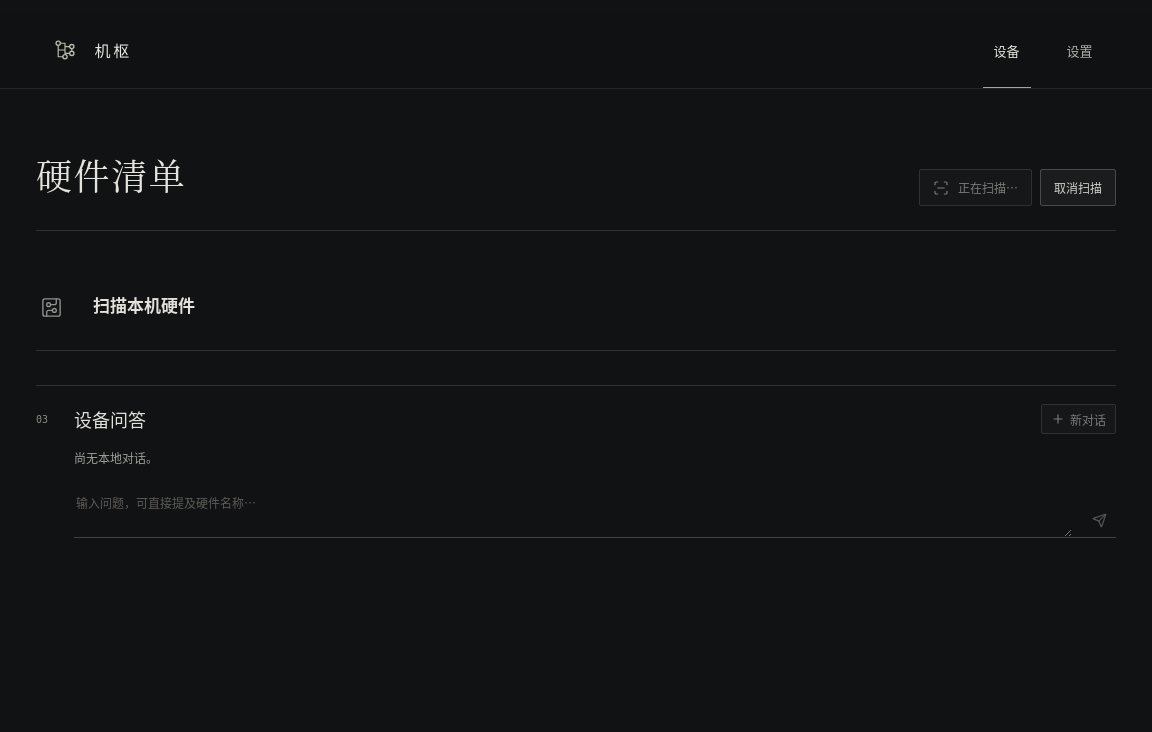
Scenario: CoreScope application shell › lets the user cancel an in-progress hardware scan
This screenshot has width=1152, height=732.
Check: the button "正在扫描…" is shown, box [919,169,1032,206]
Click the button "取消扫描" at [1078, 188], box [1040,169,1116,206]
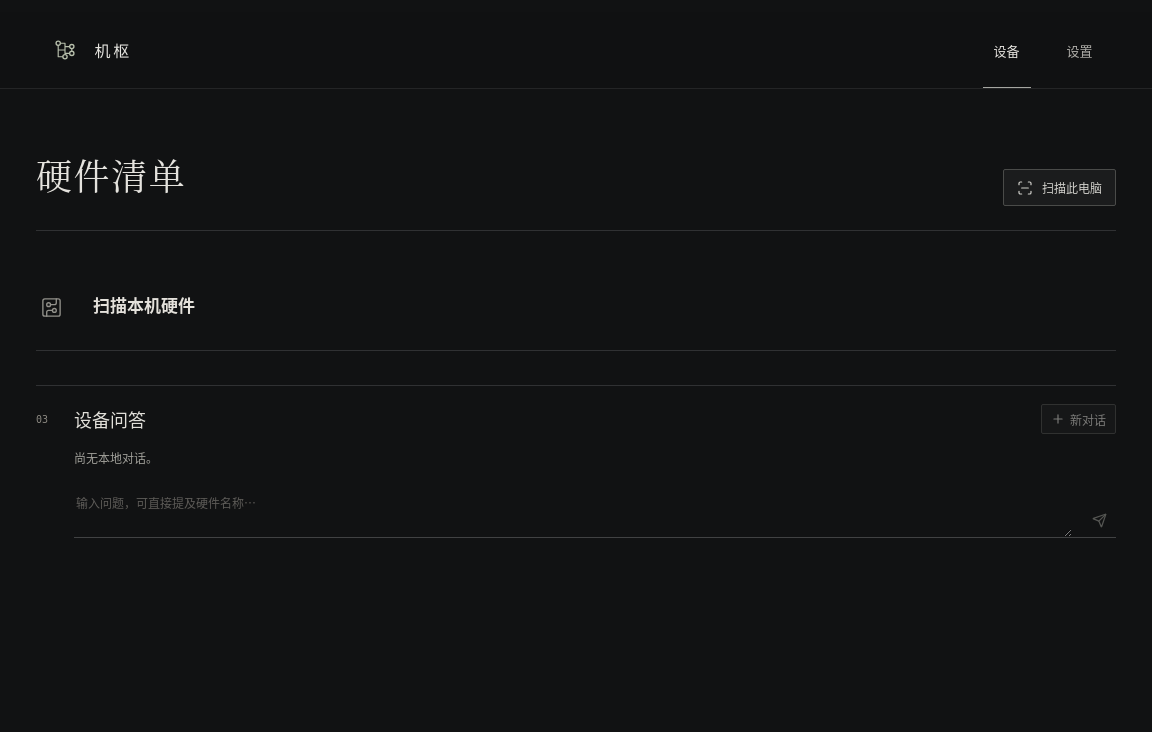
Check: the button "扫描此电脑" is shown, box [1003,169,1116,206]
